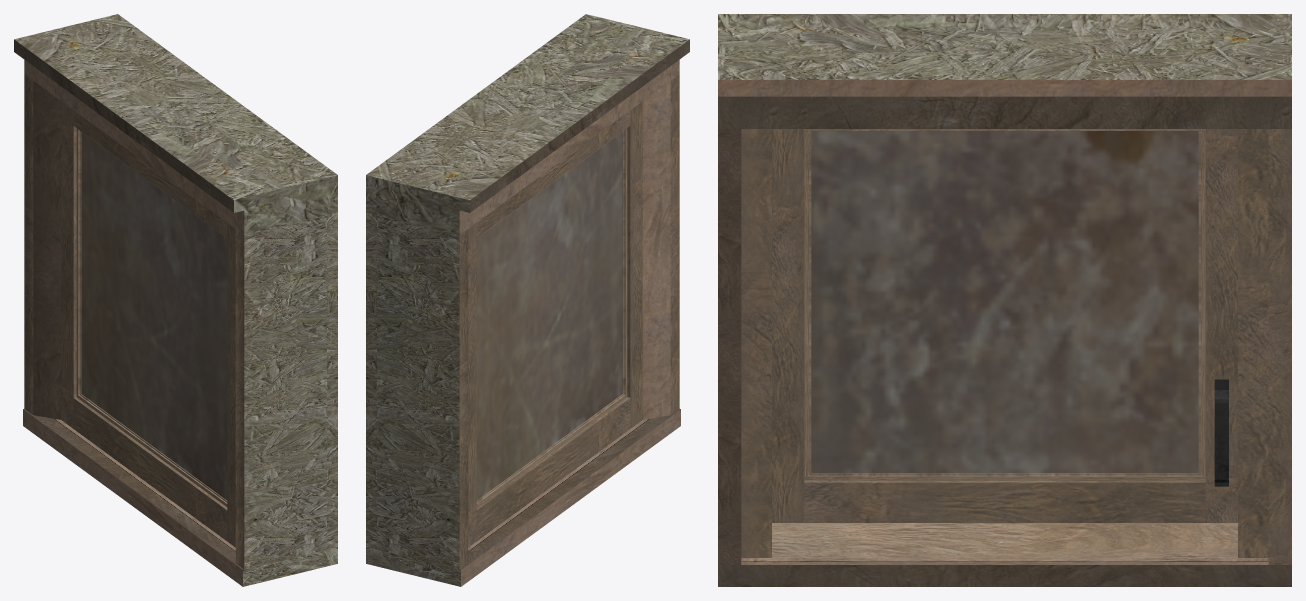
The model's file is WindowFrameBath.fbx.
3 renders of one model, left to right at view 1: azimuth 30°, elevation 25°; view 2: azimuth 150°, elevation 25°; view 3: azimuth 270°, elevation 25°, orthographic. The views are drawn at different scales.
Parts seen in each view (by area): view 1: WindowFrameBath, WindowFrameBathSingle; view 2: WindowFrameBath, WindowFrameBathSingle; view 3: WindowFrameBathSingle, WindowFrameBath.
Part boxes in pixels (box(x1,y1,x2,y2)): WindowFrameBath: box(14, 14, 337, 586); WindowFrameBathSingle: box(61, 101, 235, 547); WindowFrameBath: box(366, 14, 689, 586); WindowFrameBathSingle: box(468, 101, 642, 547); WindowFrameBathSingle: box(772, 129, 1237, 522); WindowFrameBath: box(718, 14, 1291, 586).
Size of the model in its own units: 31.17 by 111 by 114.
